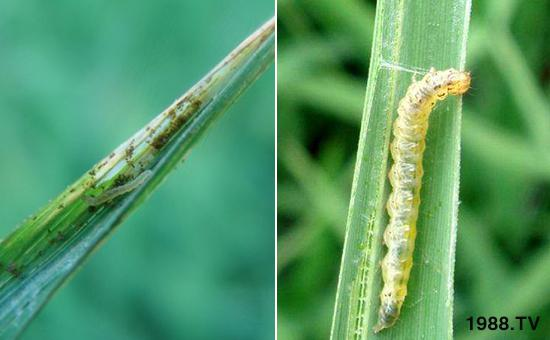pest: (371, 68, 471, 333), (88, 168, 150, 205)
